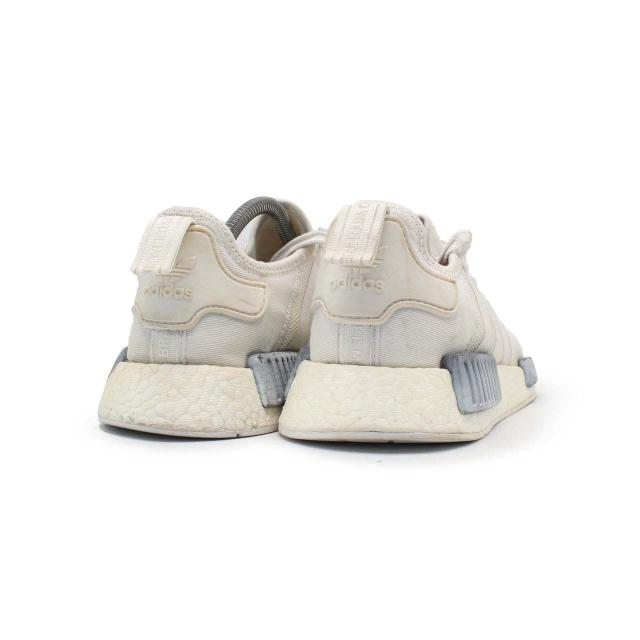heel: (125, 207, 305, 363), (307, 204, 466, 368)
midsole: (278, 350, 539, 442), (96, 348, 298, 442)
